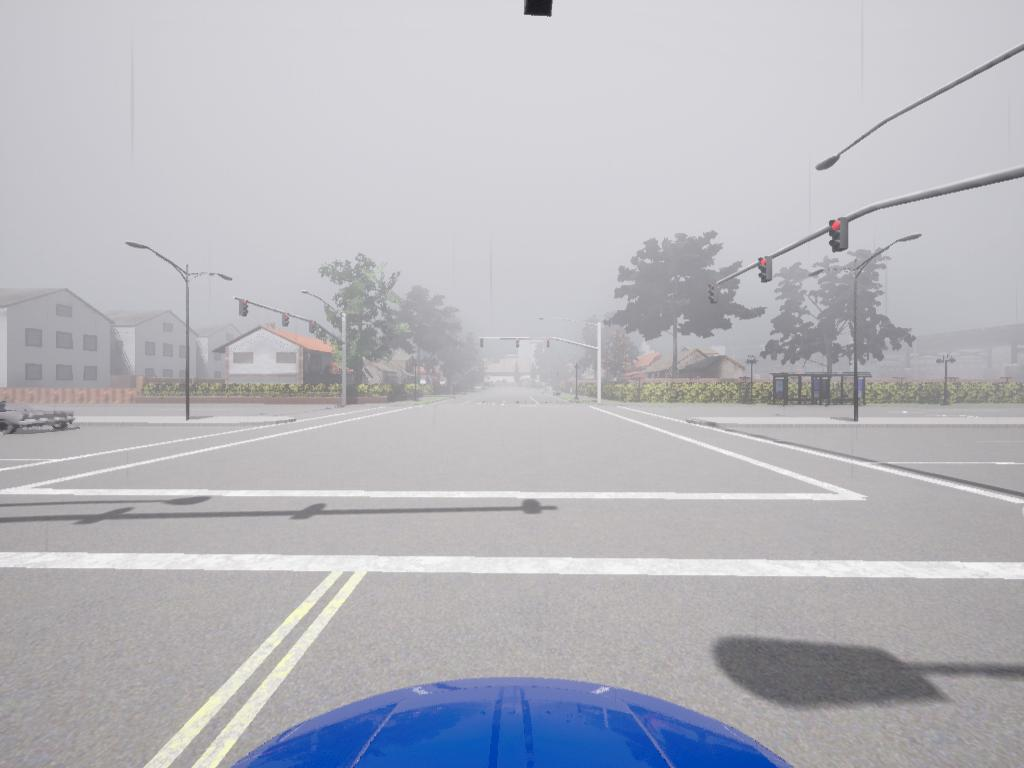traffic_light: (830, 219, 850, 252), (759, 258, 773, 282), (240, 299, 254, 319), (710, 284, 720, 303), (281, 311, 291, 328), (310, 320, 317, 335), (516, 338, 521, 349), (480, 339, 485, 349), (548, 338, 552, 349)
